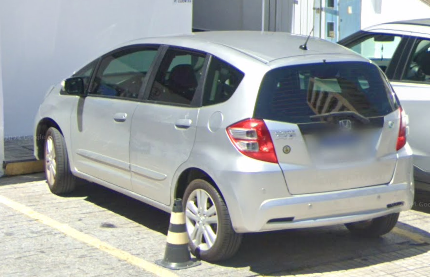car: (34, 29, 415, 264)
